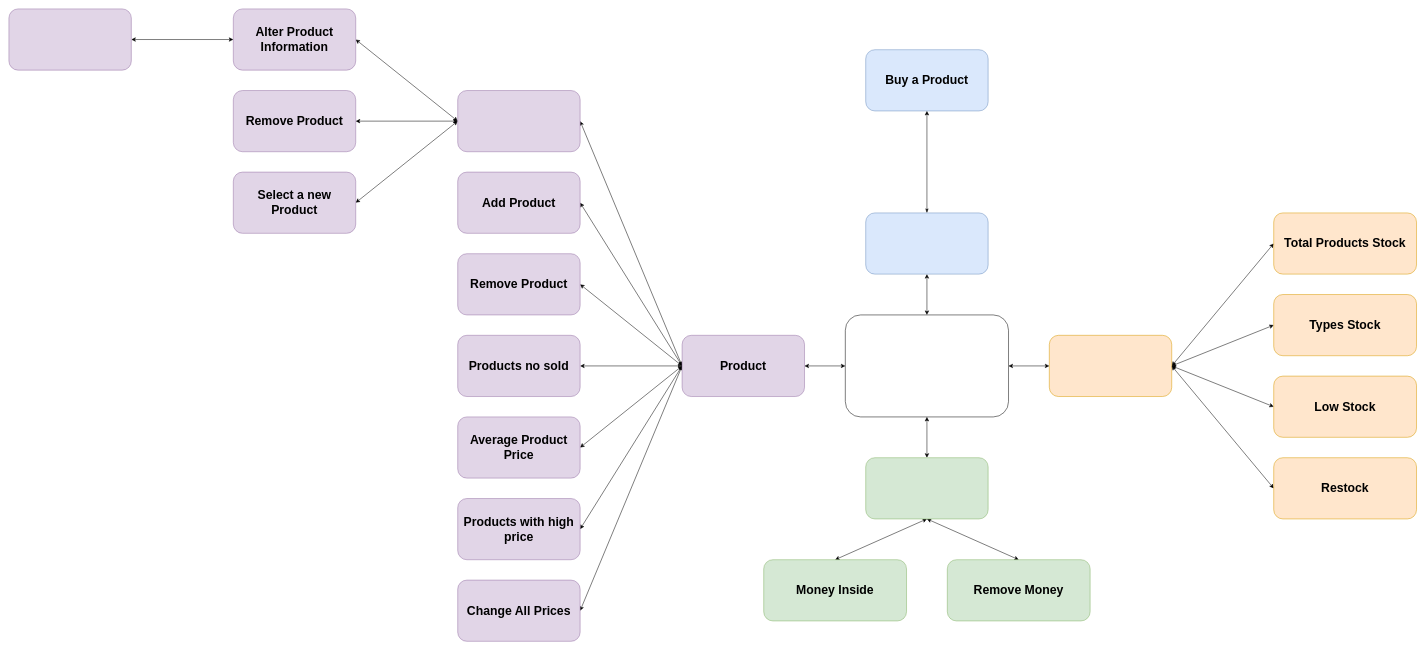
This 1425x650 diagram has some shape labels left out. Here are the shapes that lost their labels. From the top down, the box of each, then its label:
(8, 8, 131, 70): Change Price
(457, 90, 580, 152): Check Product
(865, 212, 988, 274): Vending Machine
(845, 314, 1009, 417): Main Menu (Start of Program)
(1049, 335, 1172, 397): Stocks
(865, 457, 988, 519): Money
